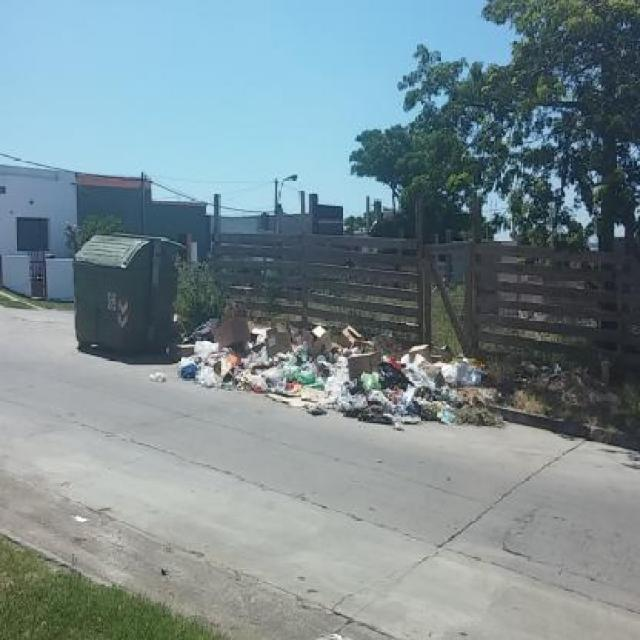garbage: (183, 301, 494, 434)
